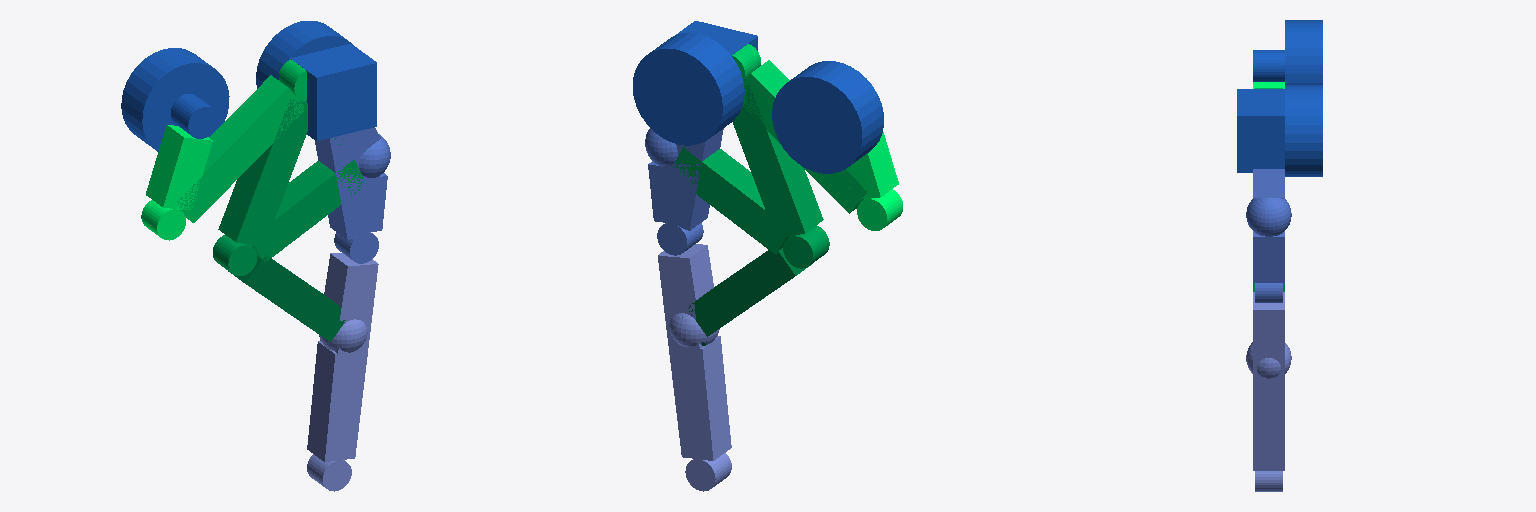
--- Facts derived from the render (not from the file) ---
3 views of the same robot in one strip: view 1: azimuth 30°, elevation 25°; view 2: azimuth 150°, elevation 25°; view 3: azimuth 270°, elevation 25° (orthographic).
Model Robot with 21 links and 20 joints (8 revolute, 12 fixed), rooted at G, posed all joints at 0.
Visible links, largest first — view 1: L5, L7, Ground_connection_GActuator, L4, G, L6, L8, L3, Main_ground_GActuator, Ground_connection_GUnit, branch_0_L5Unit, branch_2_L3Unit (+5 smaller); view 2: L5, Ground_connection_GActuator, Main_ground_GActuator, L7, L8, L6, L4, L3, branch_0_L5Unit, branch_2_L3Unit, Main_ee_L7Unit, G (+4 smaller); view 3: L7, G, Main_ground_GActuator, Ground_connection_GActuator, L6, Main_connection_1_L6Pseudo, Ground_connection_GUnit, Main_connection_2_L7Pseudo, Main_ee_L7Unit, Main_knee_L6Unit.
Link boxes in pixels (x1,y1,x2,y2): L5: (218,98,364,261); L7: (307,253,378,461); Ground_connection_GActuator: (121,48,229,151); L4: (177,75,305,222); G: (290,44,376,140); L6: (315,127,387,239); L8: (228,255,345,341); L3: (146,125,212,209); Main_ground_GActuator: (256,21,351,88); Ground_connection_GUnit: (171,94,218,138); branch_0_L5Unit: (213,235,256,275); branch_2_L3Unit: (141,200,185,240); L5: (673,85,823,254); Ground_connection_GActuator: (772,61,883,173); Main_ground_GActuator: (633,33,744,145); L7: (658,244,731,460); L8: (688,248,811,336); L6: (648,128,723,230); L4: (743,60,866,213); L3: (844,132,898,199); branch_0_L5Unit: (783,225,829,268); branch_2_L3Unit: (857,189,902,230); Main_ee_L7Unit: (685,453,731,491); G: (676,21,757,55); L7: (1253,292,1284,470); G: (1237,89,1284,172); Main_ground_GActuator: (1285,85,1322,176); Ground_connection_GActuator: (1285,20,1322,84); L6: (1253,169,1284,282); Main_connection_1_L6Pseudo: (1246,198,1291,236); Ground_connection_GUnit: (1253,50,1284,81); Main_connection_2_L7Pseudo: (1246,342,1291,378); Main_ee_L7Unit: (1255,471,1282,491); Main_knee_L6Unit: (1255,283,1282,302).
Bounding box of the posed robot: 0.2617 × 0.0903 × 0.4699 m (x, y, z).
Geometry: primitives only (box / cylinder / sphere), no mesh files.

The robot description file, URDF, robot "Robot":
<?xml version="1.0"?>
<robot  name="Robot" >
 <link  name="G" >
  <visual >
   <origin  rpy="0.0 0.0 0.0"  xyz="0.0 0.0 0.0" />
   <geometry >
    <box  size="0.067 0.067 0.067" />
   </geometry>
   <material  name="G_Material" >
    <color  rgba="0.1568627450980392 0.42745098039215684 0.8 1.0" />
   </material>
  </visual>
  <collision  name="G_Collision" >
   <origin  rpy="0.0 0.0 0.0"  xyz="0.0 0.0 0.0" />
   <geometry >
    <box  size="0.067 0.067 0.067" />
   </geometry>
  </collision>
  <inertial >
   <origin  rpy="0.0 0.0 0.0"  xyz="0.0 0.0 0.0" />
   <mass  value="0.04903493747122909" />
   <inertia  ixy="0.0"  ixz="0.0"  iyz="0.0"  iyy="3.66863057180579e-05"  ixx="3.66863057180579e-05"  izz="3.66863057180579e-05" />
  </inertial>
 </link>
 <link  name="L6" >
  <visual >
   <origin  rpy="0.0 0.0 0.0"  xyz="2.2551405187698492e-17 0.0 0.08532877591996735" />
   <geometry >
    <box  size="0.03350000083446503 0.03350000083446503 0.13715755100546967" />
   </geometry>
   <material  name="L6_Material" >
    <color  rgba="0.37254901960784315 0.5019607843137255 0.8352941176470589 1.0" />
   </material>
  </visual>
  <collision  name="L6_0_Collision" >
   <origin  rpy="0.0 0.0 0.0"  xyz="2.2551405187698492e-17 0.0 0.08532877591996735" />
   <geometry >
    <box  size="0.03350000083446503 0.03350000083446503 0.13715755100546967" />
   </geometry>
  </collision>
  <collision  name="L6_0_Collision" >
   <origin  rpy="0.0 0.0 0.0"  xyz="2.2551405187698492e-17 0.0 0.08532877591996735" />
   <geometry >
    <box  size="0.03350000083446503 0.03350000083446503 0.13715755100546967" />
   </geometry>
  </collision>
  <visual >
   <origin  rpy="-3.141592653589793 -0.28637240030263866 3.141592653589793"  xyz="-0.0127139876120751 0.0 0.12748119122443122" />
   <geometry >
    <box  size="0.03350000083446503 0.03350000083446503 0.05651874381352481" />
   </geometry>
   <material  name="L6_Material" >
    <color  rgba="0.37254901960784315 0.5019607843137255 0.8352941176470589 1.0" />
   </material>
  </visual>
  <collision  name="L6_1_Collision" >
   <origin  rpy="-3.141592653589793 -0.28637240030263866 3.141592653589793"  xyz="-0.0127139876120751 0.0 0.12748119122443122" />
   <geometry >
    <box  size="0.03350000083446503 0.03350000083446503 0.05651874381352481" />
   </geometry>
  </collision>
  <collision  name="L6_1_Collision" >
   <origin  rpy="-3.141592653589793 -0.28637240030263866 3.141592653589793"  xyz="-0.0127139876120751 0.0 0.12748119122443122" />
   <geometry >
    <box  size="0.03350000083446503 0.03350000083446503 0.05651874381352481" />
   </geometry>
  </collision>
  <visual >
   <origin  rpy="0.0 -0.29294185000394 0.0"  xyz="-0.012713987612075123 0.0 0.042152415304463876" />
   <geometry >
    <box  size="0.03350000083446503 0.03350000083446503 0.054556153907835636" />
   </geometry>
   <material  name="L6_Material" >
    <color  rgba="0.37254901960784315 0.5019607843137255 0.8352941176470589 1.0" />
   </material>
  </visual>
  <collision  name="L6_2_Collision" >
   <origin  rpy="0.0 -0.29294185000394 0.0"  xyz="-0.012713987612075123 0.0 0.042152415304463876" />
   <geometry >
    <box  size="0.03350000083446503 0.03350000083446503 0.054556153907835636" />
   </geometry>
  </collision>
  <collision  name="L6_2_Collision" >
   <origin  rpy="0.0 -0.29294185000394 0.0"  xyz="-0.012713987612075123 0.0 0.042152415304463876" />
   <geometry >
    <box  size="0.03350000083446503 0.03350000083446503 0.054556153907835636" />
   </geometry>
  </collision>
  <inertial >
   <origin  rpy="0.0 0.0 0.0"  xyz="-0.00848 0.0 0.08499" />
   <mass  value="0.19417013715180462" />
   <inertia  ixy="-1.7042205772311903e-21"  ixz="0.0010549703096108104"  iyz="6.19216315366613e-21"  iyy="0.006098382232245788"  ixx="0.00588651139708762"  izz="0.0002481887430372511" />
  </inertial>
 </link>
 <link  name="L7" >
  <visual >
   <origin  rpy="0.0 0.0 0.0"  xyz="4.85722573273506e-17 0.0 0.11696580696938742" />
   <geometry >
    <box  size="0.03350000083446503 0.03350000083446503 0.20043161310430982" />
   </geometry>
   <material  name="L7_Material" >
    <color  rgba="0.5176470588235295 0.5843137254901961 0.8705882352941177 1.0" />
   </material>
  </visual>
  <collision  name="L7_0_Collision" >
   <origin  rpy="0.0 0.0 0.0"  xyz="4.85722573273506e-17 0.0 0.11696580696938742" />
   <geometry >
    <box  size="0.03350000083446503 0.03350000083446503 0.20043161310430982" />
   </geometry>
  </collision>
  <collision  name="L7_0_Collision" >
   <origin  rpy="0.0 0.0 0.0"  xyz="4.85722573273506e-17 0.0 0.11696580696938742" />
   <geometry >
    <box  size="0.03350000083446503 0.03350000083446503 0.20043161310430982" />
   </geometry>
  </collision>
  <visual >
   <origin  rpy="0.0 0.0367288820213727 0.0"  xyz="0.0016375212975714426 0.0 0.04456397245533662" />
   <geometry >
    <box  size="0.03350000083446503 0.03350000083446503 0.05568809516494515" />
   </geometry>
   <material  name="L7_Material" >
    <color  rgba="0.5176470588235295 0.5843137254901961 0.8705882352941177 1.0" />
   </material>
  </visual>
  <collision  name="L7_1_Collision" >
   <origin  rpy="0.0 0.0367288820213727 0.0"  xyz="0.0016375212975714426 0.0 0.04456397245533662" />
   <geometry >
    <box  size="0.03350000083446503 0.03350000083446503 0.05568809516494515" />
   </geometry>
  </collision>
  <collision  name="L7_1_Collision" >
   <origin  rpy="0.0 0.0367288820213727 0.0"  xyz="0.0016375212975714426 0.0 0.04456397245533662" />
   <geometry >
    <box  size="0.03350000083446503 0.03350000083446503 0.05568809516494515" />
   </geometry>
  </collision>
  <visual >
   <origin  rpy="3.141592653589793 0.022613269098967104 3.141592653589793"  xyz="0.0016375212975714912 0.0 0.16152977942472405" />
   <geometry >
    <box  size="0.03350000083446503 0.03350000083446503 0.11134069948143371" />
   </geometry>
   <material  name="L7_Material" >
    <color  rgba="0.5176470588235295 0.5843137254901961 0.8705882352941177 1.0" />
   </material>
  </visual>
  <collision  name="L7_2_Collision" >
   <origin  rpy="3.141592653589793 0.022613269098967104 3.141592653589793"  xyz="0.0016375212975714912 0.0 0.16152977942472405" />
   <geometry >
    <box  size="0.03350000083446503 0.03350000083446503 0.11134069948143371" />
   </geometry>
  </collision>
  <collision  name="L7_2_Collision" >
   <origin  rpy="3.141592653589793 0.022613269098967104 3.141592653589793"  xyz="0.0016375212975714912 0.0 0.16152977942472405" />
   <geometry >
    <box  size="0.03350000083446503 0.03350000083446503 0.11134069948143371" />
   </geometry>
  </collision>
  <inertial >
   <origin  rpy="0.0 0.0 0.0"  xyz="0.00109 0.0 0.10769" />
   <mass  value="0.1994003888739811" />
   <inertia  ixy="-1.5959512447849774e-22"  ixz="0.0009152619907665016"  iyz="2.042817593324771e-20"  iyy="0.031451319530844166"  ixx="0.03140102996335566"  izz="8.75857504155284e-05" />
  </inertial>
 </link>
 <link  name="EE" >
  <visual >
   <origin  rpy="0.0 0.0 0.0"  xyz="0.0 0.0 0.0" />
   <geometry >
    <sphere  radius="0.002142857142857143" />
   </geometry>
   <material  name="EE_Material" >
    <color  rgba="0.6431372549019608 0.6666666666666666 0.9058823529411765 1.0" />
   </material>
  </visual>
  <collision  name="EE_Collision" >
   <origin  rpy="0.0 0.0 0.0"  xyz="0.0 0.0 0.0" />
   <geometry >
    <sphere  radius="0.002142857142857143" />
   </geometry>
  </collision>
  <inertial >
   <origin  rpy="0.0 0.0 0.0"  xyz="0.0 0.0 0.0" />
   <mass  value="2.982076683750377e-05" />
   <inertia  ixy="0.0"  ixz="0.0"  iyz="0.0"  iyy="5.477283704847632e-11"  ixx="5.477283704847632e-11"  izz="5.477283704847632e-11" />
  </inertial>
 </link>
 <link  name="L8" >
  <visual >
   <origin  rpy="0.0 0.0 0.0"  xyz="0.0 0.0 0.07968" />
   <geometry >
    <box  size="0.0335 0.0335 0.1258643623900902" />
   </geometry>
   <material  name="L8_Material" >
    <color  rgba="0.01568627450980392 0.5058823529411764 0.29411764705882354 1.0" />
   </material>
  </visual>
  <collision  name="L8_Collision" >
   <origin  rpy="0.0 0.0 0.0"  xyz="0.0 0.0 0.07968" />
   <geometry >
    <box  size="0.0335 0.0335 0.1258643623900902" />
   </geometry>
  </collision>
  <inertial >
   <origin  rpy="0.0 0.0 0.0"  xyz="0.0 0.0 0.07968" />
   <mass  value="0.10219812660647752" />
   <inertia  ixy="0.0"  ixz="0.0"  iyz="0.0"  iyy="0.00014447483204650387"  ixx="0.00014447483204650387"  izz="1.9115307930686567e-05" />
  </inertial>
 </link>
 <link  name="L5" >
  <visual >
   <origin  rpy="0.0 0.0 0.0"  xyz="-1.734723475976807e-17 0.0 0.09124157961149074" />
   <geometry >
    <box  size="0.03350000083446503 0.03350000083446503 0.14898315838851645" />
   </geometry>
   <material  name="L5_Material" >
    <color  rgba="0.0 0.6627450980392157 0.3607843137254902 1.0" />
   </material>
  </visual>
  <collision  name="L5_0_Collision" >
   <origin  rpy="0.0 0.0 0.0"  xyz="-1.734723475976807e-17 0.0 0.09124157961149074" />
   <geometry >
    <box  size="0.03350000083446503 0.03350000083446503 0.14898315838851645" />
   </geometry>
  </collision>
  <collision  name="L5_0_Collision" >
   <origin  rpy="0.0 0.0 0.0"  xyz="-1.734723475976807e-17 0.0 0.09124157961149074" />
   <geometry >
    <box  size="0.03350000083446503 0.03350000083446503 0.14898315838851645" />
   </geometry>
  </collision>
  <visual >
   <origin  rpy="0.0 -1.0455496452403543 0.0"  xyz="-0.05165361581932172 0.0 0.029935830918648574" />
   <geometry >
    <box  size="0.03350000083446503 0.03350000083446503 0.08590267920245875" />
   </geometry>
   <material  name="L5_Material" >
    <color  rgba="0.0 0.6627450980392157 0.3607843137254902 1.0" />
   </material>
  </visual>
  <collision  name="L5_1_Collision" >
   <origin  rpy="0.0 -1.0455496452403543 0.0"  xyz="-0.05165361581932172 0.0 0.029935830918648574" />
   <geometry >
    <box  size="0.03350000083446503 0.03350000083446503 0.08590267920245875" />
   </geometry>
  </collision>
  <collision  name="L5_1_Collision" >
   <origin  rpy="0.0 -1.0455496452403543 0.0"  xyz="-0.05165361581932172 0.0 0.029935830918648574" />
   <geometry >
    <box  size="0.03350000083446503 0.03350000083446503 0.08590267920245875" />
   </geometry>
  </collision>
  <visual >
   <origin  rpy="-3.141592653589793 -0.7001573854515128 3.141592653589793"  xyz="-0.051653615819321735 0.0 0.1211774105301393" />
   <geometry >
    <box  size="0.03350000083446503 0.03350000083446503 0.12683079283911472" />
   </geometry>
   <material  name="L5_Material" >
    <color  rgba="0.0 0.6627450980392157 0.3607843137254902 1.0" />
   </material>
  </visual>
  <collision  name="L5_2_Collision" >
   <origin  rpy="-3.141592653589793 -0.7001573854515128 3.141592653589793"  xyz="-0.051653615819321735 0.0 0.1211774105301393" />
   <geometry >
    <box  size="0.03350000083446503 0.03350000083446503 0.12683079283911472" />
   </geometry>
  </collision>
  <collision  name="L5_2_Collision" >
   <origin  rpy="-3.141592653589793 -0.7001573854515128 3.141592653589793"  xyz="-0.051653615819321735 0.0 0.1211774105301393" />
   <geometry >
    <box  size="0.03350000083446503 0.03350000083446503 0.12683079283911472" />
   </geometry>
  </collision>
  <inertial >
   <origin  rpy="0.0 0.0 0.0"  xyz="-0.03444 0.0 0.08078" />
   <mass  value="0.3367732022657562" />
   <inertia  ixy="-1.2611334412390474e-20"  ixz="-0.0002891512305023703"  iyz="4.125470129719375e-21"  iyy="0.009257484637084243"  ixx="0.008725859972212488"  izz="0.0005946152890503301" />
  </inertial>
 </link>
 <link  name="L4" >
  <visual >
   <origin  rpy="0.0 0.0 0.0"  xyz="0.0 0.0 0.09379" />
   <geometry >
    <box  size="0.0335 0.0335 0.15407310678239564" />
   </geometry>
   <material  name="L4_Material" >
    <color  rgba="0.0 0.8274509803921568 0.4196078431372549 1.0" />
   </material>
  </visual>
  <collision  name="L4_Collision" >
   <origin  rpy="0.0 0.0 0.0"  xyz="0.0 0.0 0.09379" />
   <geometry >
    <box  size="0.0335 0.0335 0.15407310678239564" />
   </geometry>
  </collision>
  <inertial >
   <origin  rpy="0.0 0.0 0.0"  xyz="0.0 0.0 0.09379" />
   <mass  value="0.12510278981749598" />
   <inertia  ixy="0.0"  ixz="0.0"  iyz="0.0"  iyy="0.00025917933028651126"  ixx="0.00025917933028651126"  izz="2.339943431211415e-05" />
  </inertial>
 </link>
 <link  name="L3" >
  <visual >
   <origin  rpy="0.0 0.0 0.0"  xyz="0.0 0.0 0.05281" />
   <geometry >
    <box  size="0.0335 0.0335 0.07212196741208717" />
   </geometry>
   <material  name="L3_Material" >
    <color  rgba="0.0 1.0 0.4666666666666667 1.0" />
   </material>
  </visual>
  <collision  name="L3_Collision" >
   <origin  rpy="0.0 0.0 0.0"  xyz="0.0 0.0 0.05281" />
   <geometry >
    <box  size="0.0335 0.0335 0.07212196741208717" />
   </geometry>
  </collision>
  <inertial >
   <origin  rpy="0.0 0.0 0.0"  xyz="0.0 0.0 0.05281" />
   <mass  value="0.058560896958621995" />
   <inertia  ixy="0.0"  ixz="0.0"  iyz="0.0"  iyy="3.0860754219295084e-05"  ixx="3.0860754219295084e-05"  izz="1.095332776863559e-05" />
  </inertial>
 </link>
 <joint  type="revolute"  name="Main_ground" >
  <parent  link="G" />
  <child  link="L6" />
  <origin  rpy="3.141592653589793 0.17670885607003695 3.141592653589793"  xyz="0.0 0.0 0.0" />
  <axis  xyz="0 1 0" />
  <limit  effort="10.2"  lower="-3.141592653589793"  upper="3.141592653589793"  velocity="23.99988291783386" />
  <dynamics  friction="0"  damping="0.05" />
 </joint>
 <joint  type="fixed"  name="Main_ground_G_WeldActuator" >
  <parent  link="G" />
  <child  link="Main_ground_GActuator" />
  <origin  rpy="-1.5707963267948966 0.17670885607003695 -3.141592653589793"  xyz="0.0 0.03675000041723252 0.0" />
 </joint>
 <link  name="Main_ground_GActuator" >
  <visual >
   <geometry >
    <cylinder  radius="0.048"  length="0.04" />
   </geometry>
   <material  name="Main_ground_GActuator_Material" >
    <color  rgba="0.1568627450980392 0.42745098039215684 0.8 0.9" />
   </material>
  </visual>
  <inertial >
   <inertia  ixy="0.0"  ixz="0.0"  iyz="0.0"  iyy="0.0067466666666666664"  ixx="0.0067466666666666664"  izz="0.01056" />
   <mass  value="0.44" />
  </inertial>
 </link>
 <link  name="Main_ground_GUnit" >
  <visual >
   <geometry >
    <cylinder  radius="0.016750000417232513"  length="0.03350000083446503" />
   </geometry>
   <material  name="Main_ground_GUnit_Material" >
    <color  rgba="0.1568627450980392 0.42745098039215684 0.8 0.9" />
   </material>
  </visual>
  <inertial >
   <inertia  ixy="0.0"  ixz="0.0"  iyz="0.0"  iyy="0.0006979166840513548"  ixx="0.0006979166840513548"  izz="0.0008375000208616257" />
   <mass  value="0.1" />
  </inertial>
 </link>
 <joint  type="fixed"  name="Main_ground_G_WeldUnit" >
  <parent  link="G" />
  <child  link="Main_ground_GUnit" />
  <origin  rpy="-1.5707963267948966 0.17670885607003695 -3.141592653589793"  xyz="0.0 0.0 0.0" />
 </joint>
 <joint  type="revolute"  name="Main_knee" >
  <parent  link="L6" />
  <child  link="L7" />
  <origin  rpy="0.0 0.3053056067249402 0.0"  xyz="4.5102810375396984e-17 0.0 0.1706575518399347" />
  <axis  xyz="0 1 0" />
  <limit  effort="600.0"  lower="-3.141592653589793"  upper="3.141592653589793"  velocity="6.283185307179586" />
  <dynamics  friction="0"  damping="0.05" />
 </joint>
 <link  name="Main_knee_L6Unit" >
  <visual >
   <geometry >
    <cylinder  radius="0.016"  length="0.03" />
   </geometry>
   <material  name="Main_knee_L6Unit_Material" >
    <color  rgba="0.37254901960784315 0.5019607843137255 0.8352941176470589 0.9" />
   </material>
  </visual>
  <inertial >
   <inertia  ixy="0.0"  ixz="0.0"  iyz="0.0"  iyy="0.00065"  ixx="0.00065"  izz="0.0008" />
   <mass  value="0.1" />
  </inertial>
 </link>
 <joint  type="fixed"  name="Main_knee_L6_WeldUnit" >
  <parent  link="L6" />
  <child  link="Main_knee_L6Unit" />
  <origin  rpy="1.5707963267948966 0.30530560672494 0.0"  xyz="4.5102810375396984e-17 0.0 0.1706575518399347" />
 </joint>
 <joint  type="fixed"  name="Main_ee" >
  <parent  link="L7" />
  <child  link="EE" />
  <origin  rpy="3.141592653589793 0.12859675065490328 3.141592653589793"  xyz="9.71445146547012e-17 0.0 0.23393161393877485" />
 </joint>
 <link  name="Main_ee_L7Unit" >
  <visual >
   <geometry >
    <cylinder  radius="0.016"  length="0.03" />
   </geometry>
   <material  name="Main_ee_L7Unit_Material" >
    <color  rgba="0.5176470588235295 0.5843137254901961 0.8705882352941177 0.9" />
   </material>
  </visual>
  <inertial >
   <inertia  ixy="0.0"  ixz="0.0"  iyz="0.0"  iyy="0.00065"  ixx="0.00065"  izz="0.0008" />
   <mass  value="0.1" />
  </inertial>
 </link>
 <joint  type="fixed"  name="Main_ee_L7_WeldUnit" >
  <parent  link="L7" />
  <child  link="Main_ee_L7Unit" />
  <origin  rpy="-1.5707963267948966 0.1285967506549035 -3.141592653589793"  xyz="9.71445146547012e-17 0.0 0.23393161393877485" />
 </joint>
 <link  name="Main_connection_2_L7Pseudo" >
  <visual >
   <geometry >
    <sphere  radius="0.02392857202461788" />
   </geometry>
   <material  name="Main_connection_2_L7Pseudo_Material" >
    <color  rgba="0.5176470588235295 0.5843137254901961 0.8705882352941177 0.5" />
   </material>
  </visual>
  <inertial >
   <mass  value="0.05" />
   <inertia  ixy="0.0"  ixz="0.0"  iyz="0.0"  iyy="1.145153118274651e-05"  ixx="1.145153118274651e-05"  izz="1.145153118274651e-05" />
  </inertial>
 </link>
 <joint  type="revolute"  name="Main_connection_2_L7_revolute" >
  <parent  link="L7" />
  <child  link="Main_connection_2_L7Pseudo" />
  <origin  rpy="3.141592653589793 0.12859675065490328 3.141592653589793"  xyz="0.003275042595142885 0.0 0.08912794491067325" />
  <axis  xyz="0 1 0" />
  <limit  effort="600.0"  lower="-3.141592653589793"  upper="3.141592653589793"  velocity="6.283185307179586" />
  <dynamics  friction="0"  damping="0.05" />
 </joint>
 <joint  type="fixed"  name="Main_connection_2_L7_Weld" >
  <parent  link="L8" />
  <child  link="Main_connection_2_L8Pseudo" />
  <origin  rpy="3.141592653589793 -0.8431117770064139 3.141592653589793"  xyz="2.7755575615628914e-17 0.0 0.1593643623900902" />
 </joint>
 <link  name="Main_connection_2_L8Pseudo" >
  <visual >
   <geometry >
    <sphere  radius="0.02392857142857143" />
   </geometry>
   <material  name="Main_connection_2_L8Pseudo_Material" >
    <color  rgba="0.01568627450980392 0.5058823529411764 0.29411764705882354 0.5" />
   </material>
  </visual>
  <inertial >
   <mass  value="0.05" />
   <inertia  ixy="0.0"  ixz="0.0"  iyz="0.0"  iyy="1.1451530612244902e-05"  ixx="1.1451530612244902e-05"  izz="1.1451530612244902e-05" />
  </inertial>
 </link>
 <joint  type="revolute"  name="branch_0" >
  <parent  link="L5" />
  <child  link="L8" />
  <origin  rpy="0.0 -1.2518603806985196 0.0"  xyz="-3.469446951953614e-17 0.0 0.18248315922298147" />
  <axis  xyz="0 1 0" />
  <limit  effort="600.0"  lower="-3.141592653589793"  upper="3.141592653589793"  velocity="6.283185307179586" />
  <dynamics  friction="0"  damping="0.05" />
 </joint>
 <link  name="branch_0_L5Unit" >
  <visual >
   <geometry >
    <cylinder  radius="0.016"  length="0.03" />
   </geometry>
   <material  name="branch_0_L5Unit_Material" >
    <color  rgba="0.0 0.6627450980392157 0.3607843137254902 0.9" />
   </material>
  </visual>
  <inertial >
   <inertia  ixy="0.0"  ixz="0.0"  iyz="0.0"  iyy="0.00065"  ixx="0.00065"  izz="0.0008" />
   <mass  value="0.1" />
  </inertial>
 </link>
 <joint  type="fixed"  name="branch_0_L5_WeldUnit" >
  <parent  link="L5" />
  <child  link="branch_0_L5Unit" />
  <origin  rpy="1.5707963267948957 -1.2518603806985196 5.551115123125783e-16"  xyz="-3.469446951953614e-17 0.0 0.18248315922298147" />
 </joint>
 <link  name="Main_connection_1_L6Pseudo" >
  <visual >
   <geometry >
    <sphere  radius="0.02392857202461788" />
   </geometry>
   <material  name="Main_connection_1_L6Pseudo_Material" >
    <color  rgba="0.37254901960784315 0.5019607843137255 0.8352941176470589 0.5" />
   </material>
  </visual>
  <inertial >
   <mass  value="0.05" />
   <inertia  ixy="0.0"  ixz="0.0"  iyz="0.0"  iyy="1.145153118274651e-05"  ixx="1.145153118274651e-05"  izz="1.145153118274651e-05" />
  </inertial>
 </link>
 <joint  type="revolute"  name="Main_connection_1_L6_revolute" >
  <parent  link="L6" />
  <child  link="Main_connection_1_L6Pseudo" />
  <origin  rpy="0.0 0.3053056067249402 0.0"  xyz="-0.025427975224150245 0.0 0.08430483060892775" />
  <axis  xyz="0 1 0" />
  <limit  effort="600.0"  lower="-3.141592653589793"  upper="3.141592653589793"  velocity="6.283185307179586" />
  <dynamics  friction="0"  damping="0.05" />
 </joint>
 <joint  type="fixed"  name="Main_connection_1_L6_Weld" >
  <parent  link="L5" />
  <child  link="Main_connection_1_L5Pseudo" />
  <origin  rpy="0.0 -0.28015185303720225 0.0"  xyz="-0.10330723163864344 0.0 0.05987166183729714" />
 </joint>
 <link  name="Main_connection_1_L5Pseudo" >
  <visual >
   <geometry >
    <sphere  radius="0.02392857202461788" />
   </geometry>
   <material  name="Main_connection_1_L5Pseudo_Material" >
    <color  rgba="0.0 0.6627450980392157 0.3607843137254902 0.5" />
   </material>
  </visual>
  <inertial >
   <mass  value="0.05" />
   <inertia  ixy="0.0"  ixz="0.0"  iyz="0.0"  iyy="1.145153118274651e-05"  ixx="1.145153118274651e-05"  izz="1.145153118274651e-05" />
  </inertial>
 </link>
 <joint  type="revolute"  name="branch_1" >
  <parent  link="L4" />
  <child  link="L5" />
  <origin  rpy="3.141592653589793 0.5256308447594713 3.141592653589793"  xyz="1.3877787807814457e-17 0.0 0.18757310678239564" />
  <axis  xyz="0 1 0" />
  <limit  effort="600.0"  lower="-3.141592653589793"  upper="3.141592653589793"  velocity="6.283185307179586" />
  <dynamics  friction="0"  damping="0.05" />
 </joint>
 <link  name="branch_1_L4Unit" >
  <visual >
   <geometry >
    <cylinder  radius="0.016"  length="0.03" />
   </geometry>
   <material  name="branch_1_L4Unit_Material" >
    <color  rgba="0.0 0.8274509803921568 0.4196078431372549 0.9" />
   </material>
  </visual>
  <inertial >
   <inertia  ixy="0.0"  ixz="0.0"  iyz="0.0"  iyy="0.00065"  ixx="0.00065"  izz="0.0008" />
   <mass  value="0.1" />
  </inertial>
 </link>
 <joint  type="fixed"  name="branch_1_L4_WeldUnit" >
  <parent  link="L4" />
  <child  link="branch_1_L4Unit" />
  <origin  rpy="-1.5707963267948966 0.5256308447594713 -3.141592653589793"  xyz="1.3877787807814457e-17 0.0 0.18757310678239564" />
 </joint>
 <joint  type="revolute"  name="Ground_connection" >
  <parent  link="G" />
  <child  link="L3" />
  <origin  rpy="3.141592653589793 -0.3277385067805554 3.141592653589793"  xyz="-0.148 0.0 0.006" />
  <axis  xyz="0 1 0" />
  <limit  effort="10.2"  lower="-3.141592653589793"  upper="3.141592653589793"  velocity="23.99988291783386" />
  <dynamics  friction="0"  damping="0.05" />
 </joint>
 <joint  type="fixed"  name="Ground_connection_G_WeldActuator" >
  <parent  link="G" />
  <child  link="Ground_connection_GActuator" />
  <origin  rpy="-1.5707963267948966 -0.3277385067805554 -3.141592653589793"  xyz="-0.148 0.036750000000000005 0.006" />
 </joint>
 <link  name="Ground_connection_GActuator" >
  <visual >
   <geometry >
    <cylinder  radius="0.048"  length="0.04" />
   </geometry>
   <material  name="Ground_connection_GActuator_Material" >
    <color  rgba="0.1568627450980392 0.42745098039215684 0.8 0.9" />
   </material>
  </visual>
  <inertial >
   <inertia  ixy="0.0"  ixz="0.0"  iyz="0.0"  iyy="0.0067466666666666664"  ixx="0.0067466666666666664"  izz="0.01056" />
   <mass  value="0.44" />
  </inertial>
 </link>
 <link  name="Ground_connection_GUnit" >
  <visual >
   <geometry >
    <cylinder  radius="0.01675"  length="0.0335" />
   </geometry>
   <material  name="Ground_connection_GUnit_Material" >
    <color  rgba="0.1568627450980392 0.42745098039215684 0.8 0.9" />
   </material>
  </visual>
  <inertial >
   <inertia  ixy="0.0"  ixz="0.0"  iyz="0.0"  iyy="0.0006979166666666668"  ixx="0.0006979166666666668"  izz="0.0008375000000000001" />
   <mass  value="0.1" />
  </inertial>
 </link>
 <joint  type="fixed"  name="Ground_connection_G_WeldUnit" >
  <parent  link="G" />
  <child  link="Ground_connection_GUnit" />
  <origin  rpy="-1.5707963267948966 -0.3277385067805554 -3.141592653589793"  xyz="-0.148 0.0 0.006" />
 </joint>
 <joint  type="revolute"  name="branch_2" >
  <parent  link="L3" />
  <child  link="L4" />
  <origin  rpy="3.141592653589793 -0.6066409416710212 3.141592653589793"  xyz="0.0 0.0 0.10562196741208714" />
  <axis  xyz="0 1 0" />
  <limit  effort="600.0"  lower="-3.141592653589793"  upper="3.141592653589793"  velocity="6.283185307179586" />
  <dynamics  friction="0"  damping="0.05" />
 </joint>
 <link  name="branch_2_L3Unit" >
  <visual >
   <geometry >
    <cylinder  radius="0.016"  length="0.03" />
   </geometry>
   <material  name="branch_2_L3Unit_Material" >
    <color  rgba="0.0 1.0 0.4666666666666667 0.9" />
   </material>
  </visual>
  <inertial >
   <inertia  ixy="0.0"  ixz="0.0"  iyz="0.0"  iyy="0.00065"  ixx="0.00065"  izz="0.0008" />
   <mass  value="0.1" />
  </inertial>
 </link>
 <joint  type="fixed"  name="branch_2_L3_WeldUnit" >
  <parent  link="L3" />
  <child  link="branch_2_L3Unit" />
  <origin  rpy="-1.5707963267948966 -0.6066409416710211 -3.141592653589793"  xyz="0.0 0.0 0.10562196741208714" />
 </joint>
</robot>
